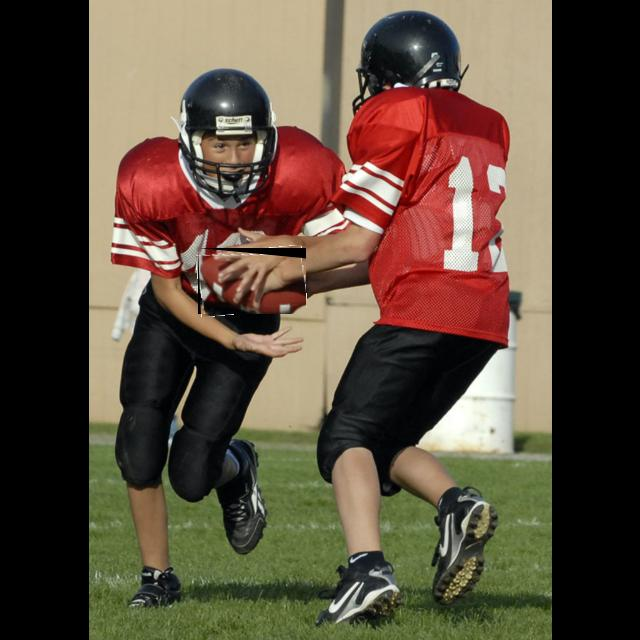Football: (198, 248, 306, 314)
